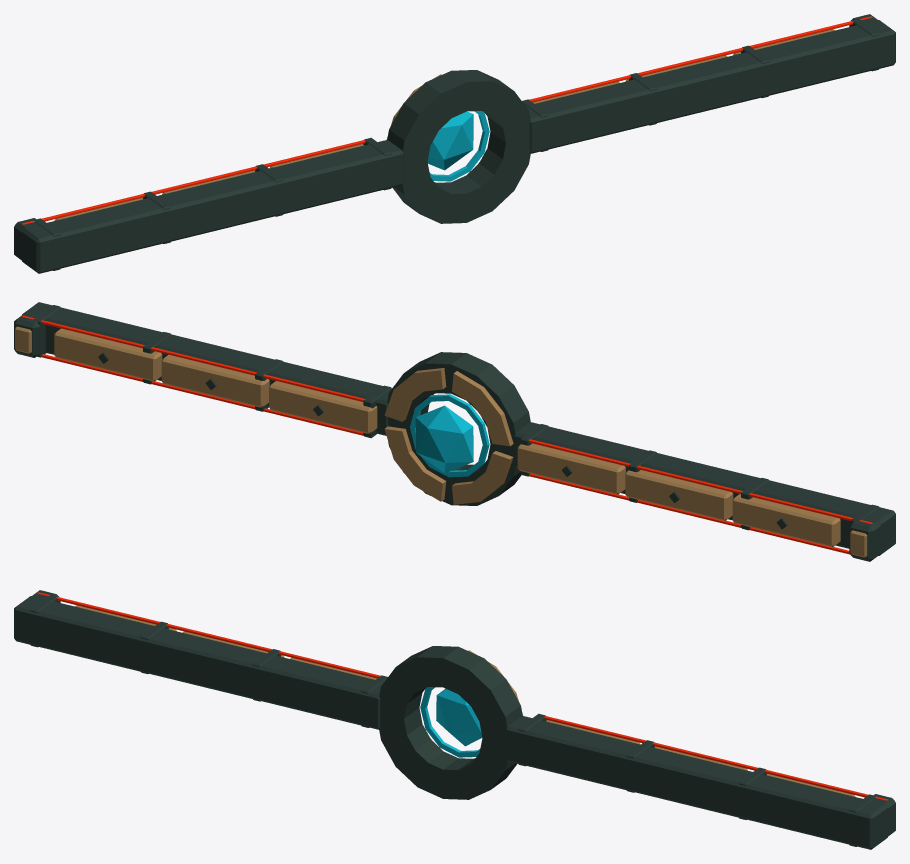
The model's file is ruins_rotor_hub_bar.obj.
The picture shows the model from 3 angles, top to bottom: view 1: azimuth 30°, elevation 25°; view 2: azimuth 150°, elevation 25°; view 3: azimuth 330°, elevation 25°; orthographic projection.
Parts seen in each view (by area): view 1: ruins_rotor_hub_bar; view 2: ruins_rotor_hub_bar; view 3: ruins_rotor_hub_bar.
Part boxes in pixels (<box>): ruins_rotor_hub_bar: <box>14,14,895,273</box>; ruins_rotor_hub_bar: <box>14,302,895,561</box>; ruins_rotor_hub_bar: <box>14,590,895,849</box>.
Bounding box in the file's own units: 46 × 7.2 × 2.89.
4 materials, 4 textured.
